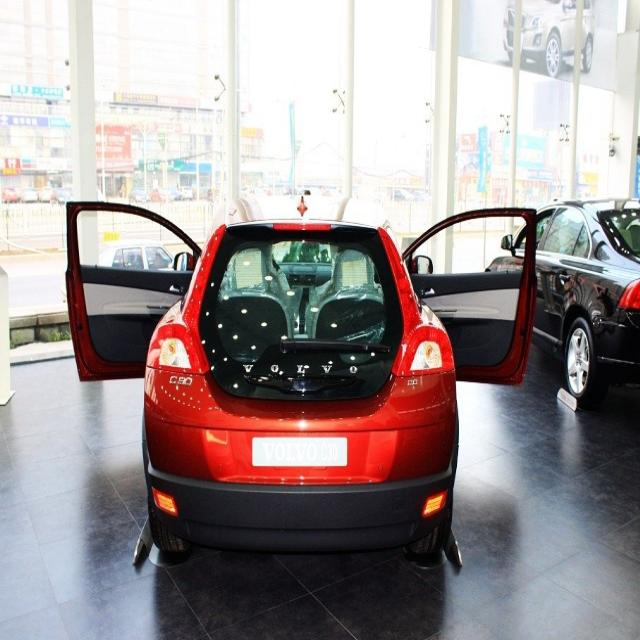back_glass: (193, 228, 405, 413)
back_left_side_light: (146, 219, 228, 375)
back_right_side_light: (377, 224, 458, 378)
front_left_side_door: (62, 196, 202, 384)
front_left_side_mirror: (170, 249, 195, 276)
front_right_side_door: (404, 206, 540, 386)
front_right_side_mirror: (411, 253, 435, 280)
rear_bumper: (139, 414, 459, 538)
